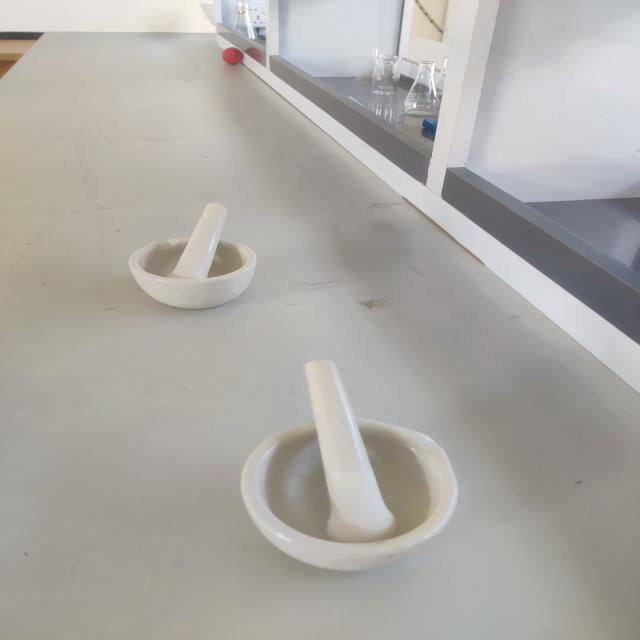Porcelain_Mortar Pestle: (216, 338, 480, 584), (107, 181, 282, 329)
